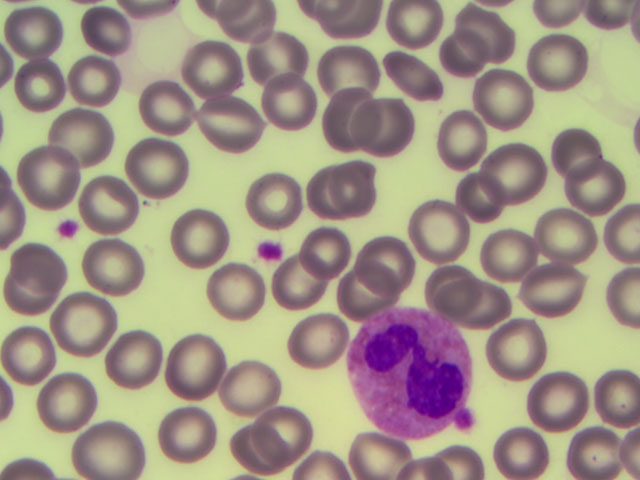Platelets: (248, 238, 289, 266), (54, 214, 81, 242)
RBC: (83, 423, 140, 480), (341, 423, 398, 480), (487, 423, 544, 480), (6, 7, 63, 63), (6, 56, 63, 112), (67, 54, 124, 110), (55, 110, 112, 166), (25, 142, 82, 198), (74, 176, 131, 232), (136, 148, 193, 204), (129, 76, 186, 132), (181, 42, 238, 98), (205, 93, 262, 149), (242, 26, 299, 82), (264, 74, 321, 130), (317, 38, 374, 94), (317, 86, 374, 142), (355, 94, 412, 150), (384, 41, 441, 97), (393, 3, 450, 59), (427, 22, 484, 78), (450, 4, 507, 60), (527, 26, 584, 82), (481, 69, 538, 125), (434, 108, 491, 164), (488, 143, 545, 199), (547, 120, 604, 176), (559, 144, 616, 200), (538, 203, 595, 259), (484, 230, 541, 286), (448, 167, 505, 223), (414, 197, 471, 253), (363, 226, 420, 282), (328, 262, 385, 318), (293, 312, 350, 368), (303, 223, 360, 279), (278, 260, 335, 316), (250, 170, 307, 226), (295, 166, 352, 222), (336, 150, 393, 206), (176, 208, 233, 264), (200, 249, 257, 305), (171, 339, 228, 395), (109, 331, 166, 387), (56, 289, 113, 345), (85, 234, 142, 290), (9, 240, 66, 296), (3, 265, 60, 321), (2, 320, 59, 376), (38, 370, 95, 426), (153, 411, 210, 467), (221, 355, 278, 411), (257, 402, 314, 458), (226, 418, 283, 474), (535, 375, 592, 431), (489, 324, 546, 380), (453, 276, 510, 332), (423, 252, 480, 308), (529, 265, 586, 321), (583, 362, 640, 418), (568, 421, 625, 477), (81, 5, 138, 61), (222, 1, 279, 56)
WBC: (351, 307, 474, 435)
